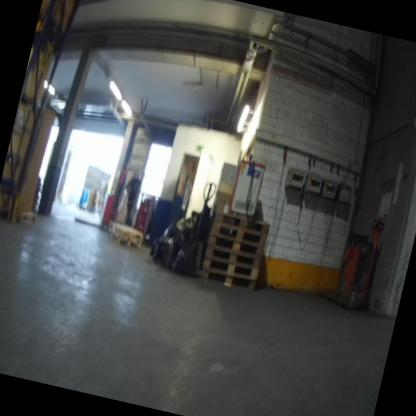pallet: (213, 208, 271, 235), (211, 222, 268, 247), (206, 245, 263, 270), (204, 257, 260, 281), (202, 269, 257, 293), (208, 234, 265, 257), (105, 220, 146, 243), (106, 231, 144, 251), (18, 92, 40, 114), (16, 209, 38, 228), (4, 152, 23, 171), (0, 176, 17, 190), (0, 207, 14, 223)
pallet_truck: (321, 208, 388, 314), (169, 177, 220, 281), (72, 157, 136, 235), (77, 181, 108, 218)
